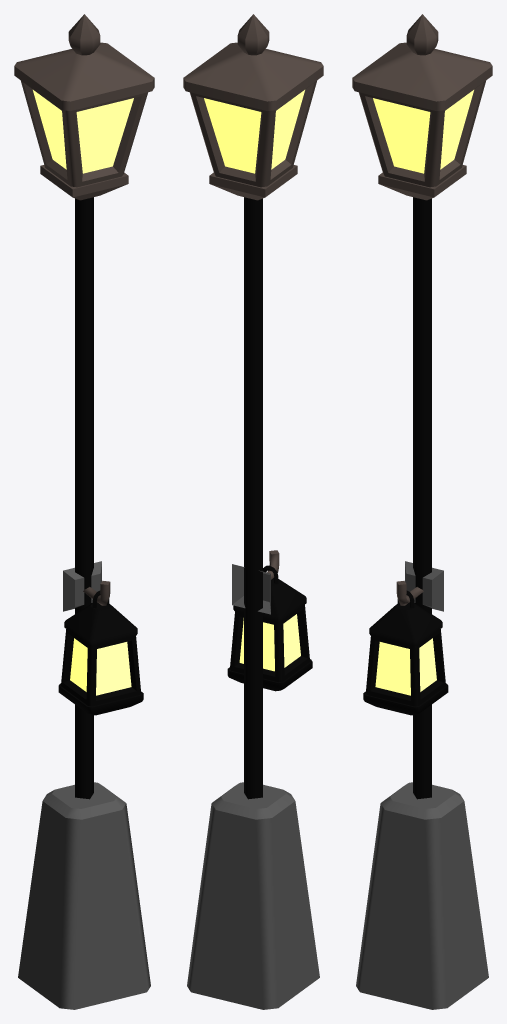
File: Lanterns_TurnOn.fbx
3 renders of one model, left to right at view 1: azimuth 30°, elevation 25°; view 2: azimuth 150°, elevation 25°; view 3: azimuth 330°, elevation 25°, orthographic.
Parts seen in each view (by area): view 1: Lantern_TurnOn, Lantern02_TurnOn; view 2: Lantern_TurnOn, Lantern02_TurnOn; view 3: Lantern_TurnOn, Lantern02_TurnOn.
Part boxes in pixels (box(x1,y1,x2,y2)): Lantern_TurnOn: box(14, 14, 154, 1009); Lantern02_TurnOn: box(58, 561, 143, 715); Lantern_TurnOn: box(183, 14, 323, 1009); Lantern02_TurnOn: box(227, 550, 312, 691); Lantern_TurnOn: box(352, 14, 492, 1009); Lantern02_TurnOn: box(363, 561, 448, 715).
Size of the model in its own units: 37.1 by 368 by 41.18.
